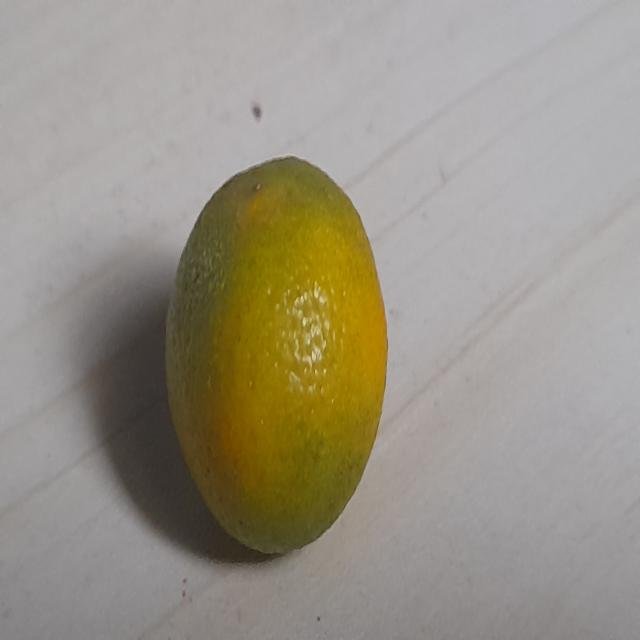greening: (164, 147, 394, 562)
